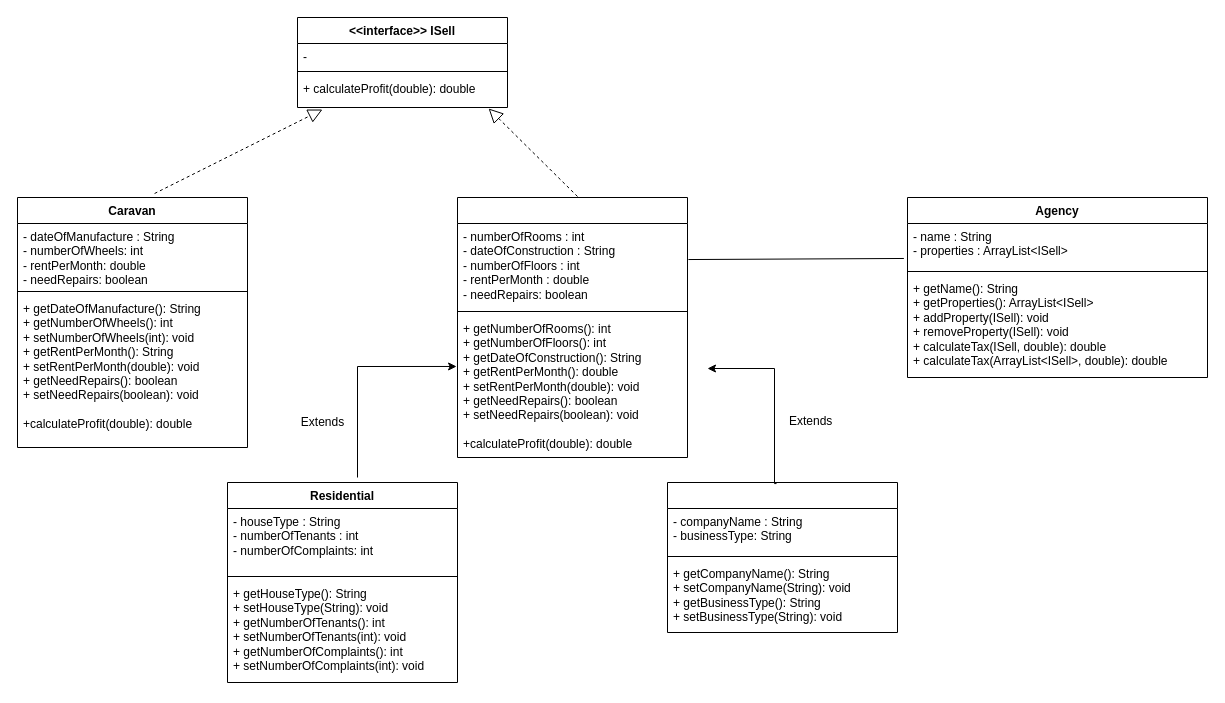
Image size: 1225x703. Some labels were removed from this diagram. Each missing label, with the box of its shape:
<<Building>>: (456, 196, 688, 458)
Commercial: (666, 482, 898, 632)
